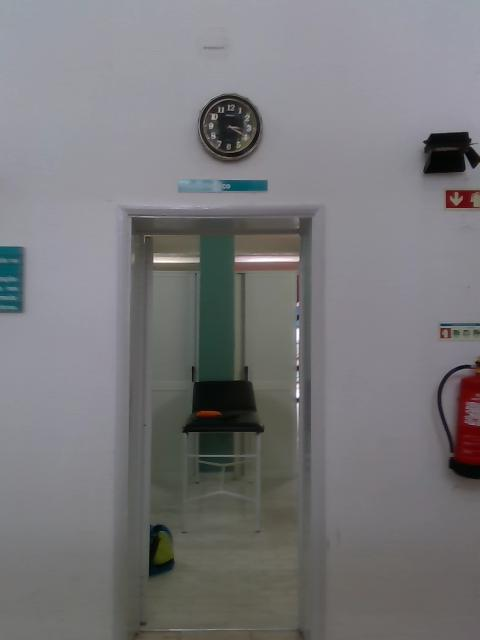open_door: (110, 202, 323, 639)
